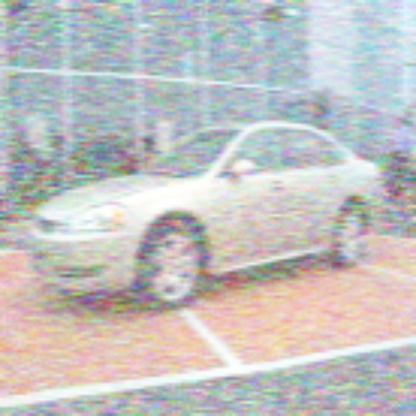Vehicle: (25, 120, 390, 308)
